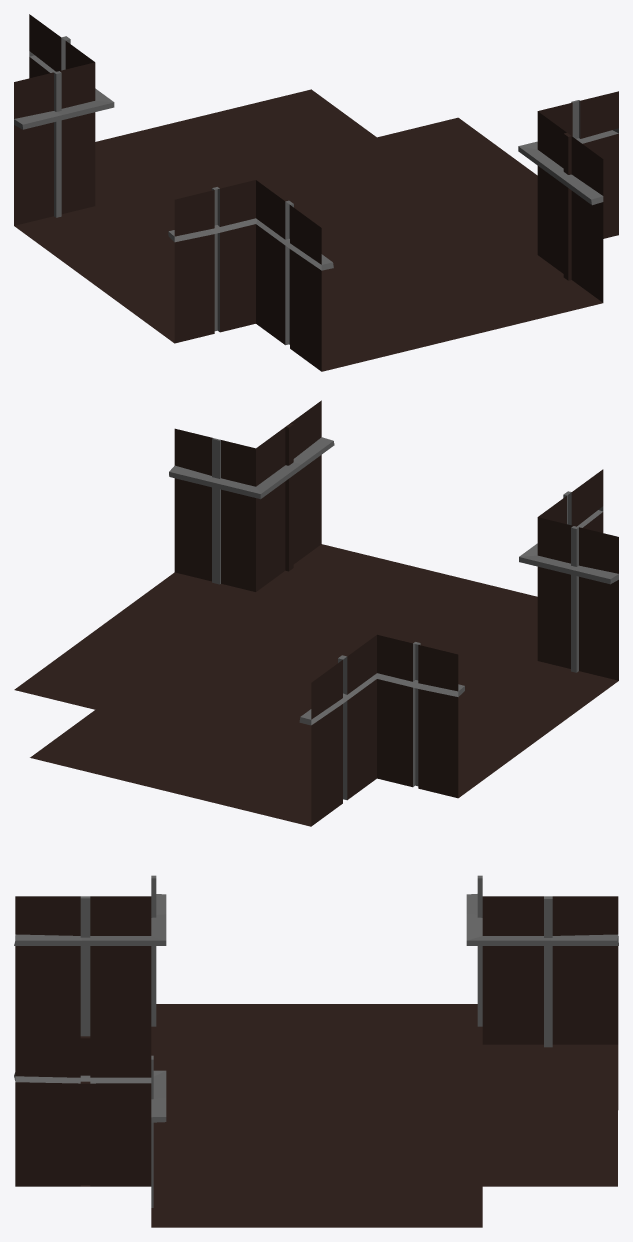
The model's file is hallway cross section.fbx.
3 views of the same model, one above another, from view 1: azimuth 30°, elevation 25°; view 2: azimuth 150°, elevation 25°; view 3: azimuth 270°, elevation 25° (orthographic). The views are drawn at different scales.
Parts seen in each view (by area): view 1: crosssection hallway; view 2: crosssection hallway; view 3: crosssection hallway.
Part boxes in pixels (<box>): crosssection hallway: <box>14,14,618,371</box>; crosssection hallway: <box>14,400,618,826</box>; crosssection hallway: <box>14,875,618,1227</box>.
Bounding box in the file's own units: 127 × 39.32 × 145.
